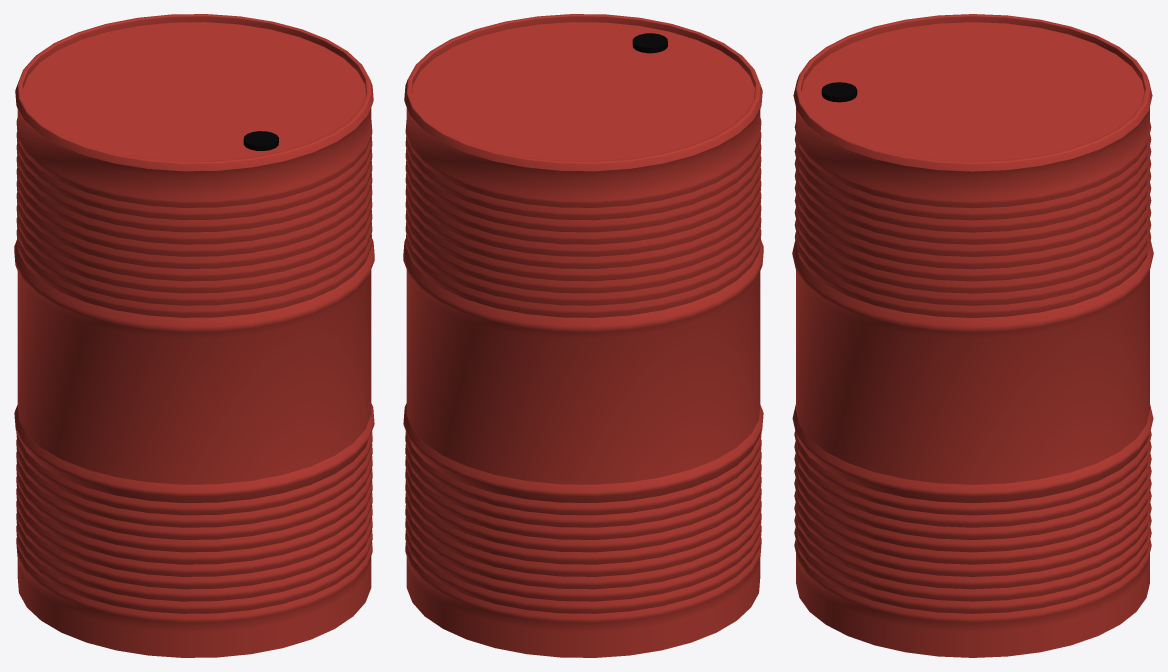
The model's file is barrel.glb.
The picture shows the model from 3 angles, left to right: view 1: azimuth 30°, elevation 25°; view 2: azimuth 150°, elevation 25°; view 3: azimuth 270°, elevation 25°; orthographic projection.
Visible parts, largest first — view 1: Oelfass, FassDeckel; view 2: Oelfass, FassDeckel; view 3: Oelfass, FassDeckel.
Boxes of the visible parts, x1,y1,x2,y2 form: Oelfass: (14, 14, 374, 657); FassDeckel: (243, 131, 278, 150); Oelfass: (403, 14, 763, 657); FassDeckel: (632, 33, 667, 53); Oelfass: (792, 14, 1153, 657); FassDeckel: (821, 82, 857, 102).
Bounding box in the file's own units: 1.64 × 2.48 × 1.64.
